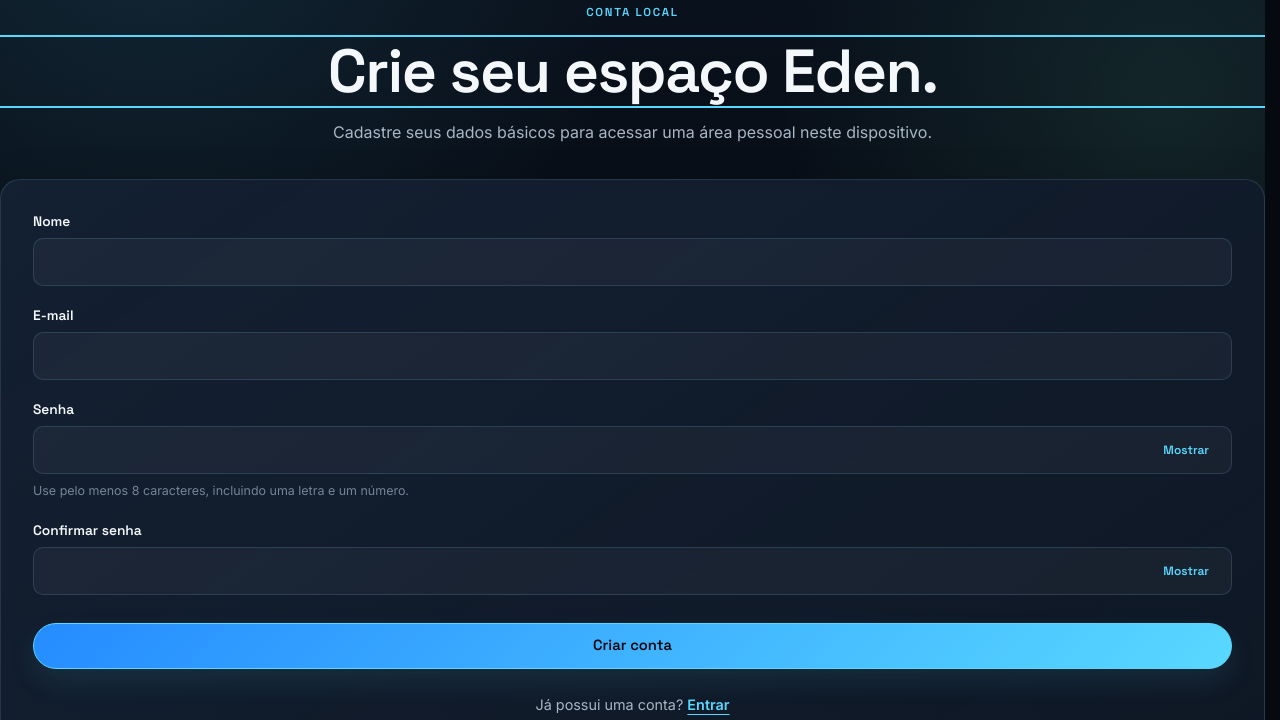
Test: cadastro, login e área do cliente › informa e-mail duplicado sem apagar os demais dados
This screenshot has width=1280, height=720.
Type "Felipe Jordão" into the field labelled "Nome" at (632, 262), box [33, 238, 1232, 286]
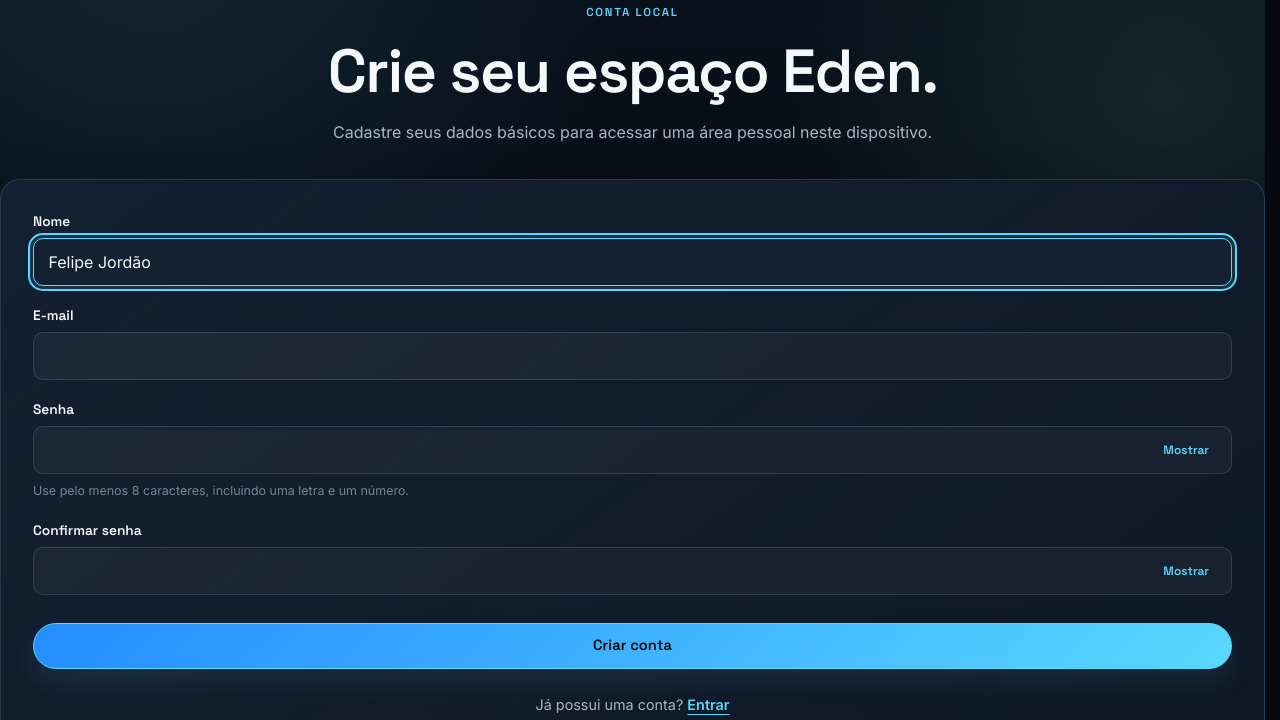
Type "FELIPE@EXEMPLO.COM" into the field labelled "E-mail" at (632, 356), box [33, 332, 1232, 380]
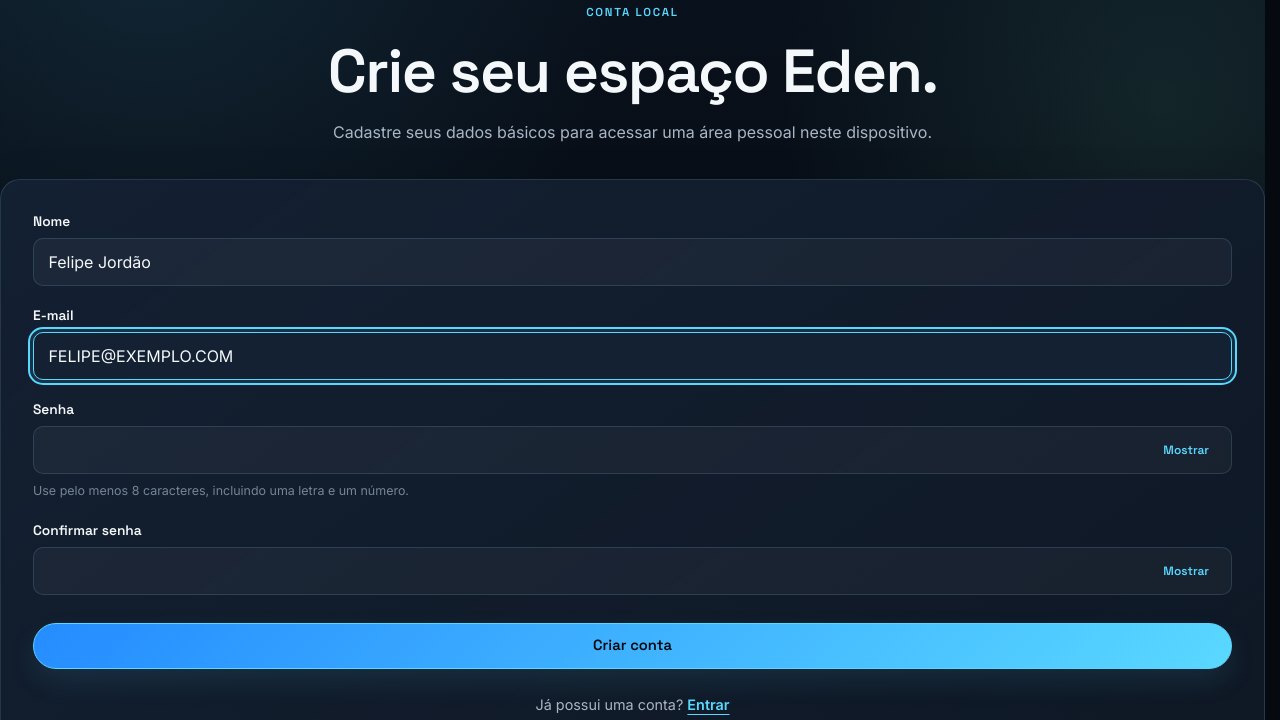
Type "eden2026" into the password field labelled "Senha" at (632, 450), box [33, 426, 1232, 474]
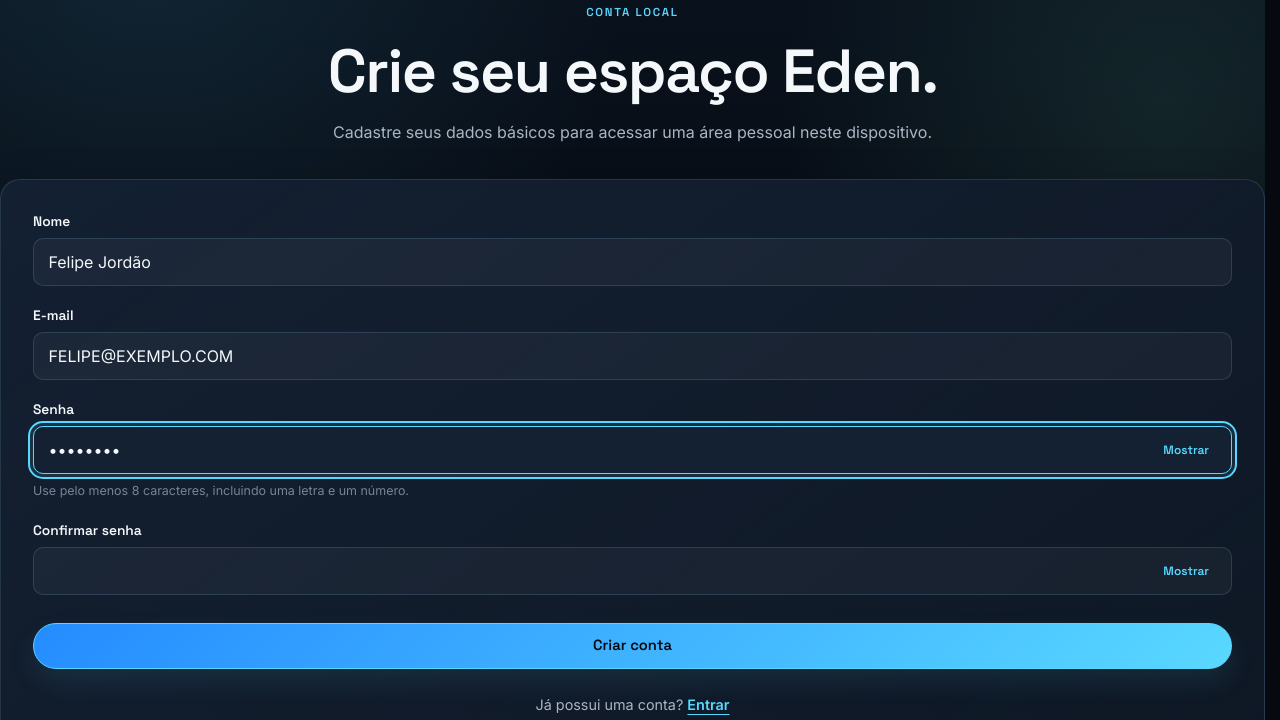
Type "eden2026" into the password field labelled "Confirmar senha" at (632, 571), box [33, 547, 1232, 595]
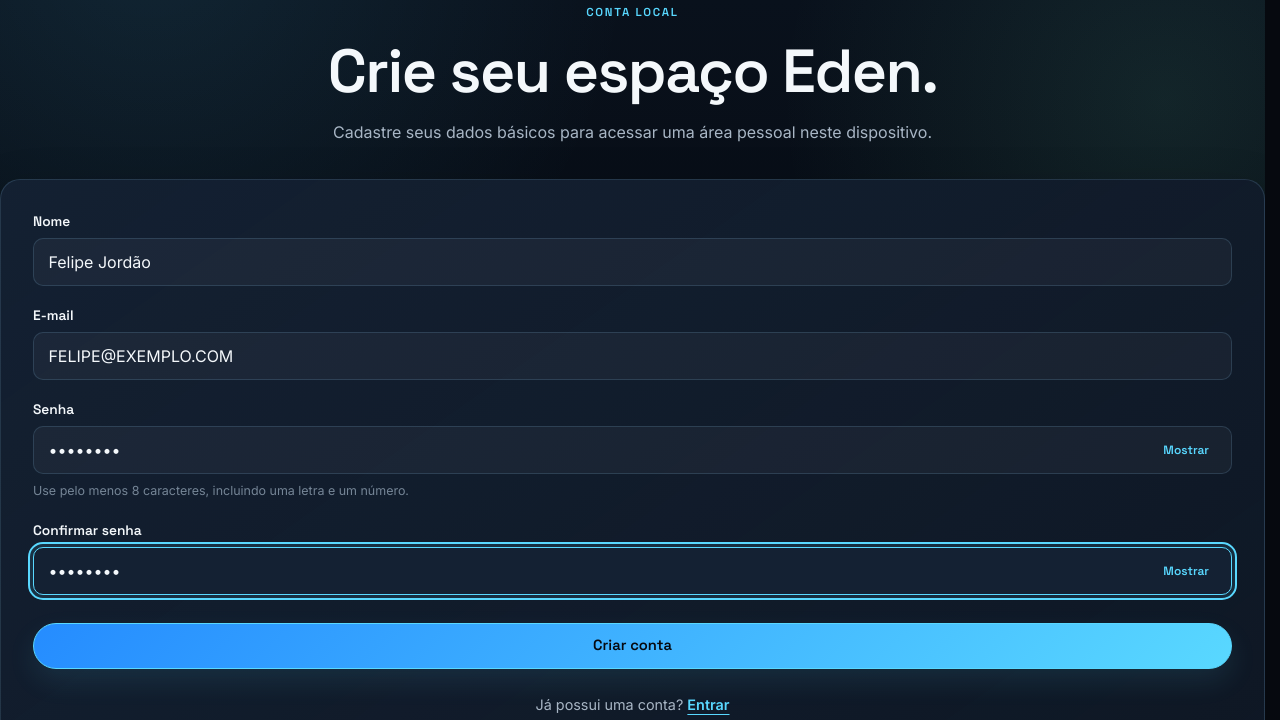
Click the button "Criar conta" at (632, 646), box [33, 623, 1232, 669]
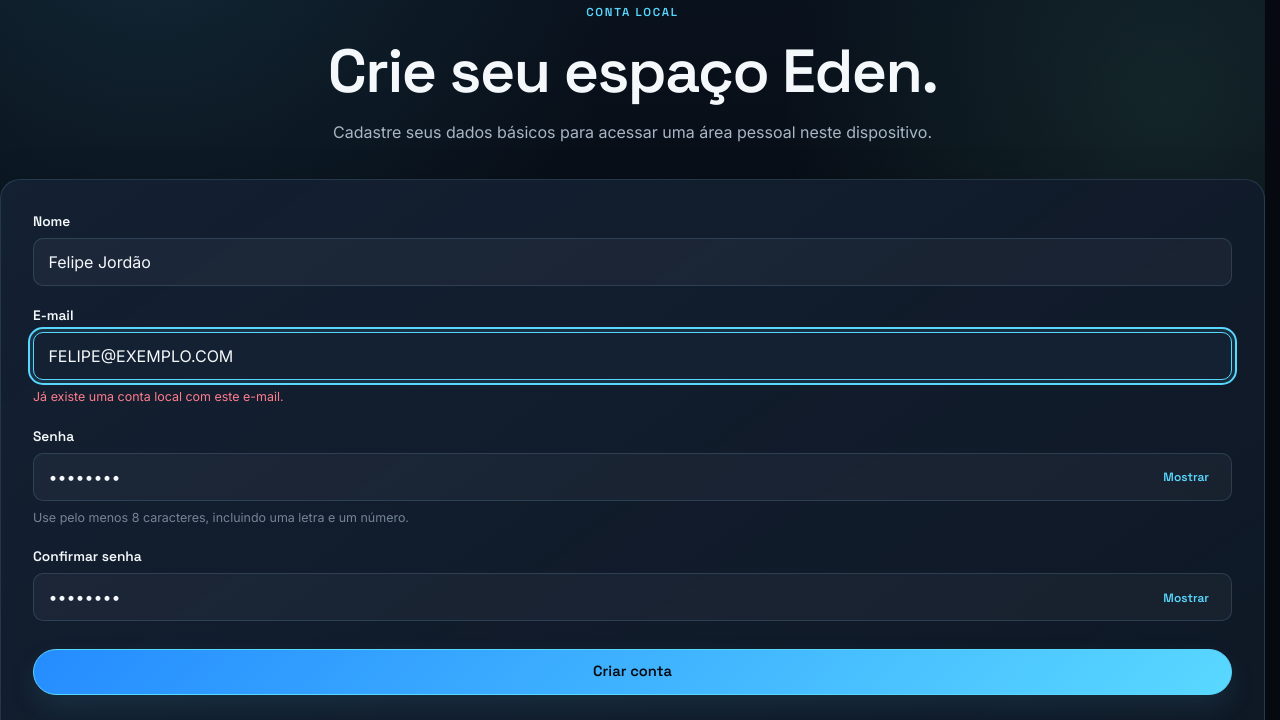
Now the text "Já existe uma conta local com este e-mail." is shown, box [33, 389, 284, 404]
